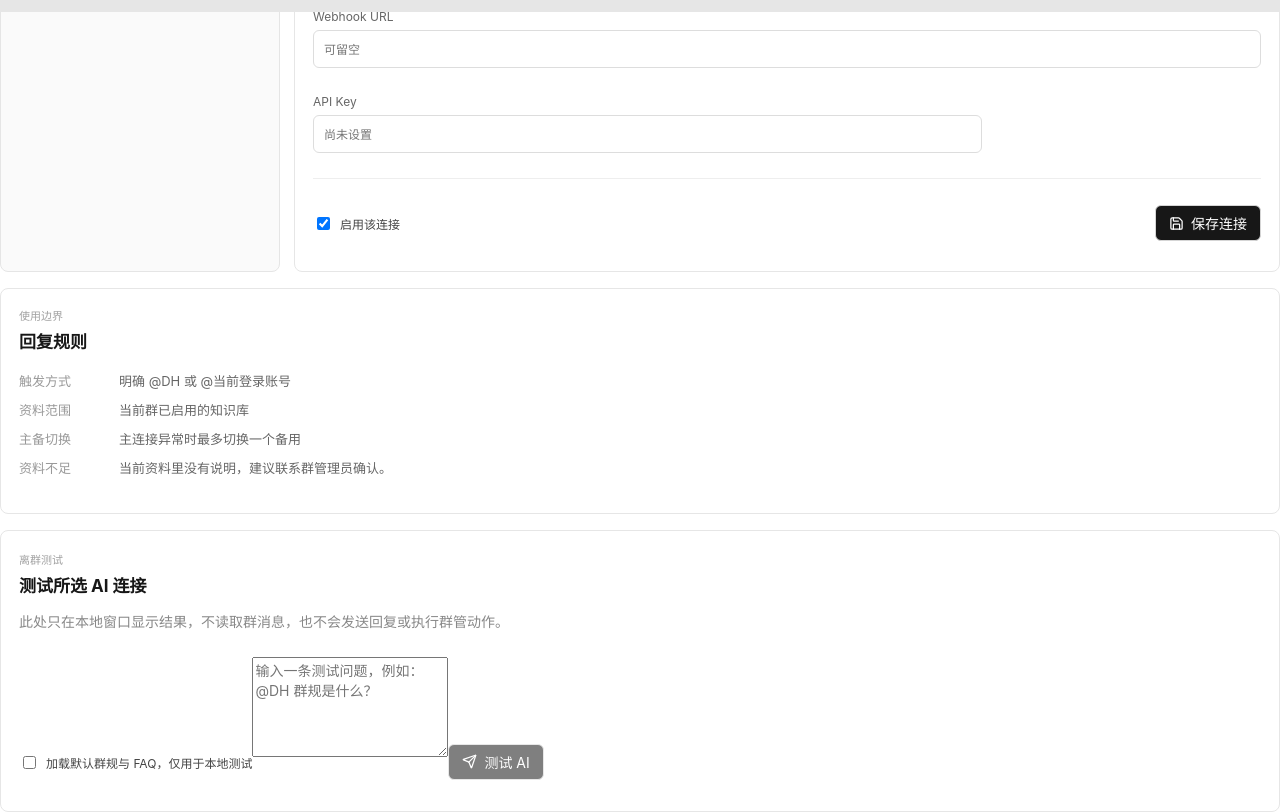
it: AI 助手离群测试 › passes the optional built-in knowledge flag and reports the source
Click the checkbox labelled "加载默认群规与 FAQ，仅用于本地测试".
click(30, 763)  # box [23,756,36,769]
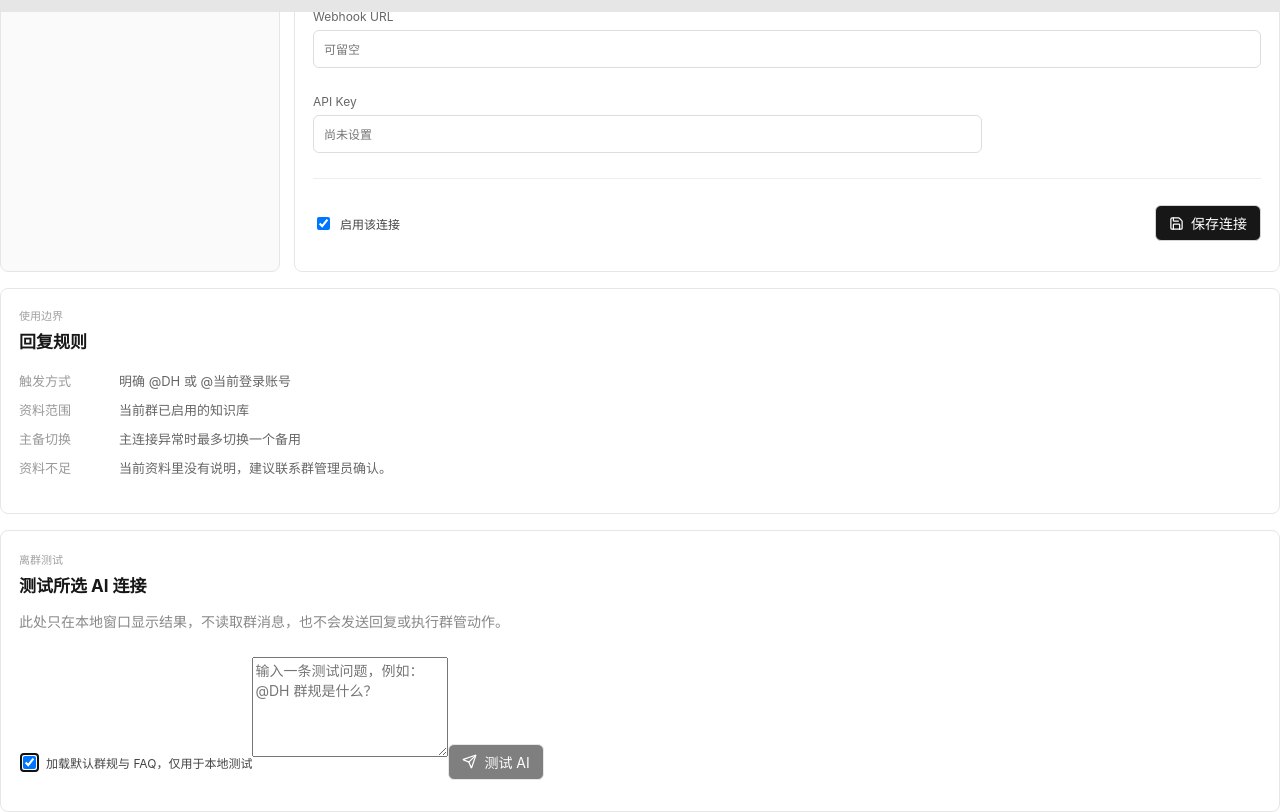
Type "@DH 群规是什么" into the text box with placeholder "输入一条测试问题，例如：@DH 群规是什么？".
click(350, 707); type("@DH 群规是什么")  # box [252,657,448,757]
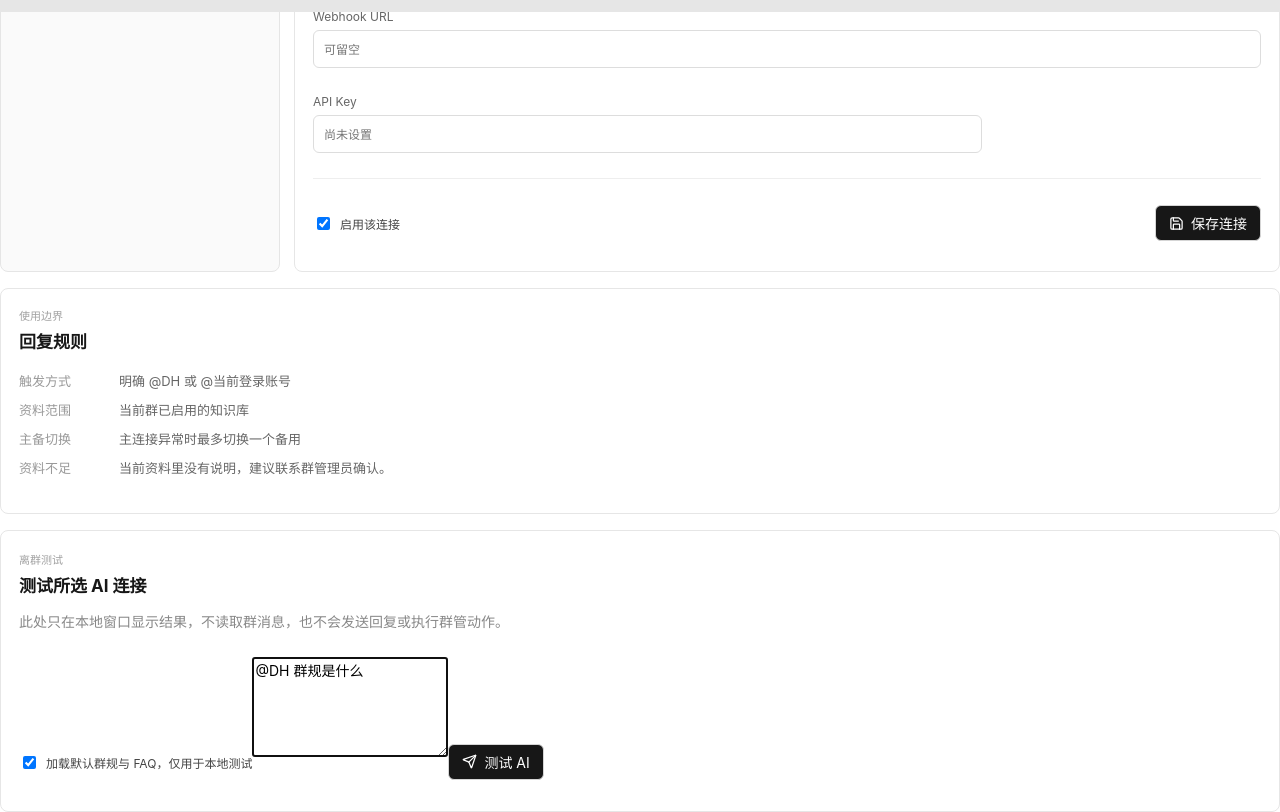
Click the button "测试 AI".
click(496, 762)  # box [448,744,544,780]
(page scrolled)
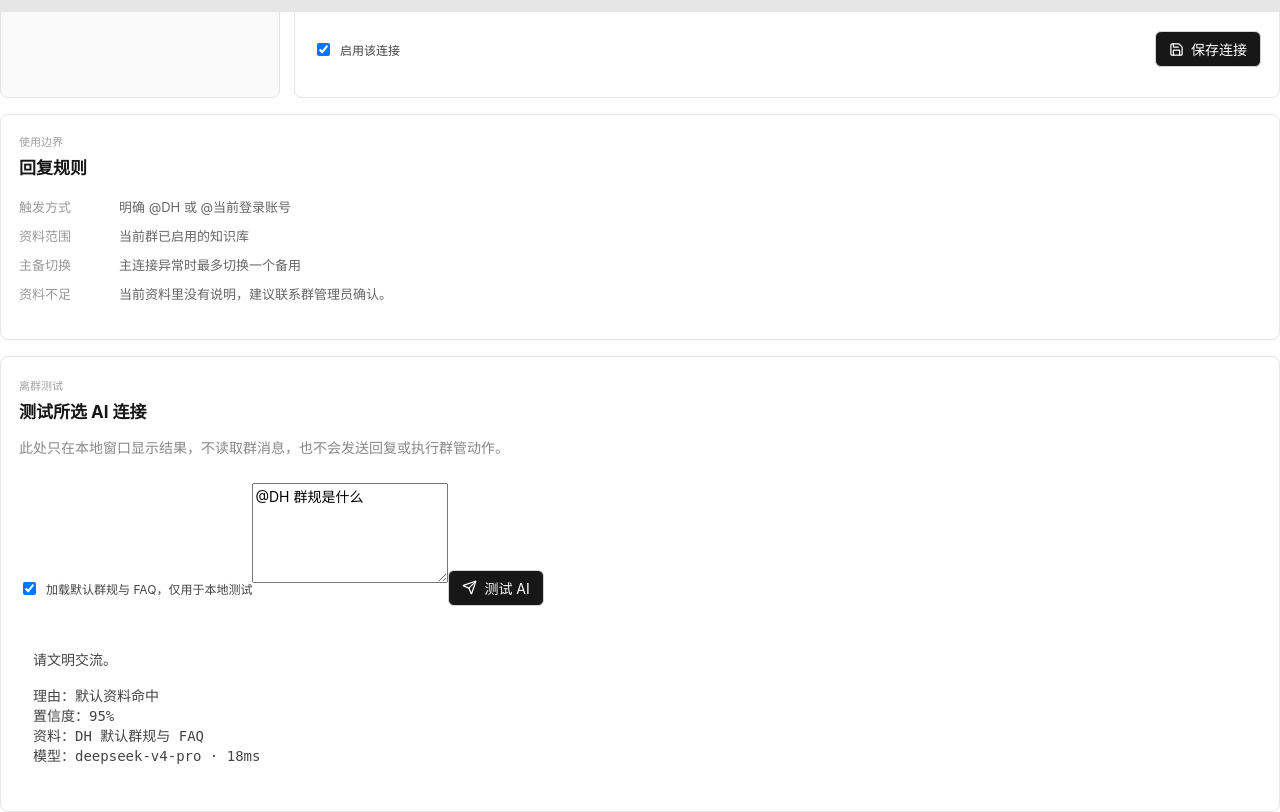
expect the text "资料：DH 默认群规与 FAQ" is shown: met, box [33,652,260,764]
